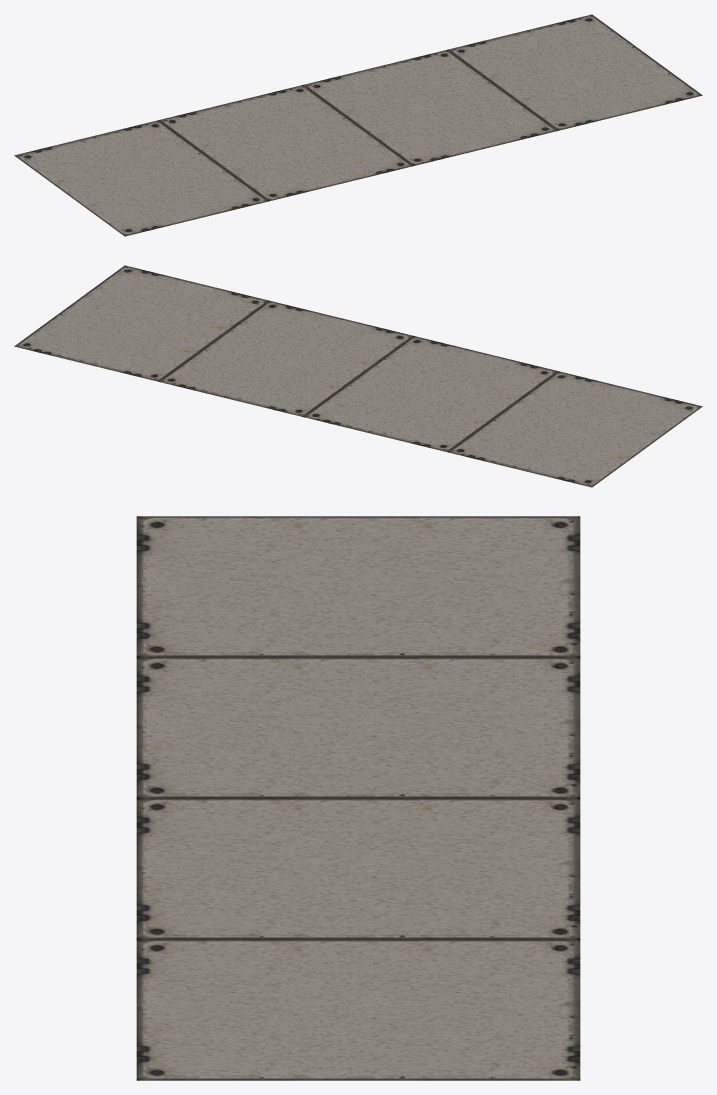
Rendered from zhuzi3.FBX.
3 renders of one model, top to bottom at view 1: azimuth 30°, elevation 25°; view 2: azimuth 150°, elevation 25°; view 3: azimuth 270°, elevation 25°, orthographic. The views are drawn at different scales.
Visible parts, largest first — view 1: Plane001; view 2: Plane001; view 3: Plane001.
Boxes of the visible parts, x1,y1,x2,y2 form: Plane001: (14, 14, 702, 236); Plane001: (14, 265, 702, 487); Plane001: (136, 516, 580, 1080).
Size of the model in its own units: 60.8 by 1.24e-15 by 20.19.
